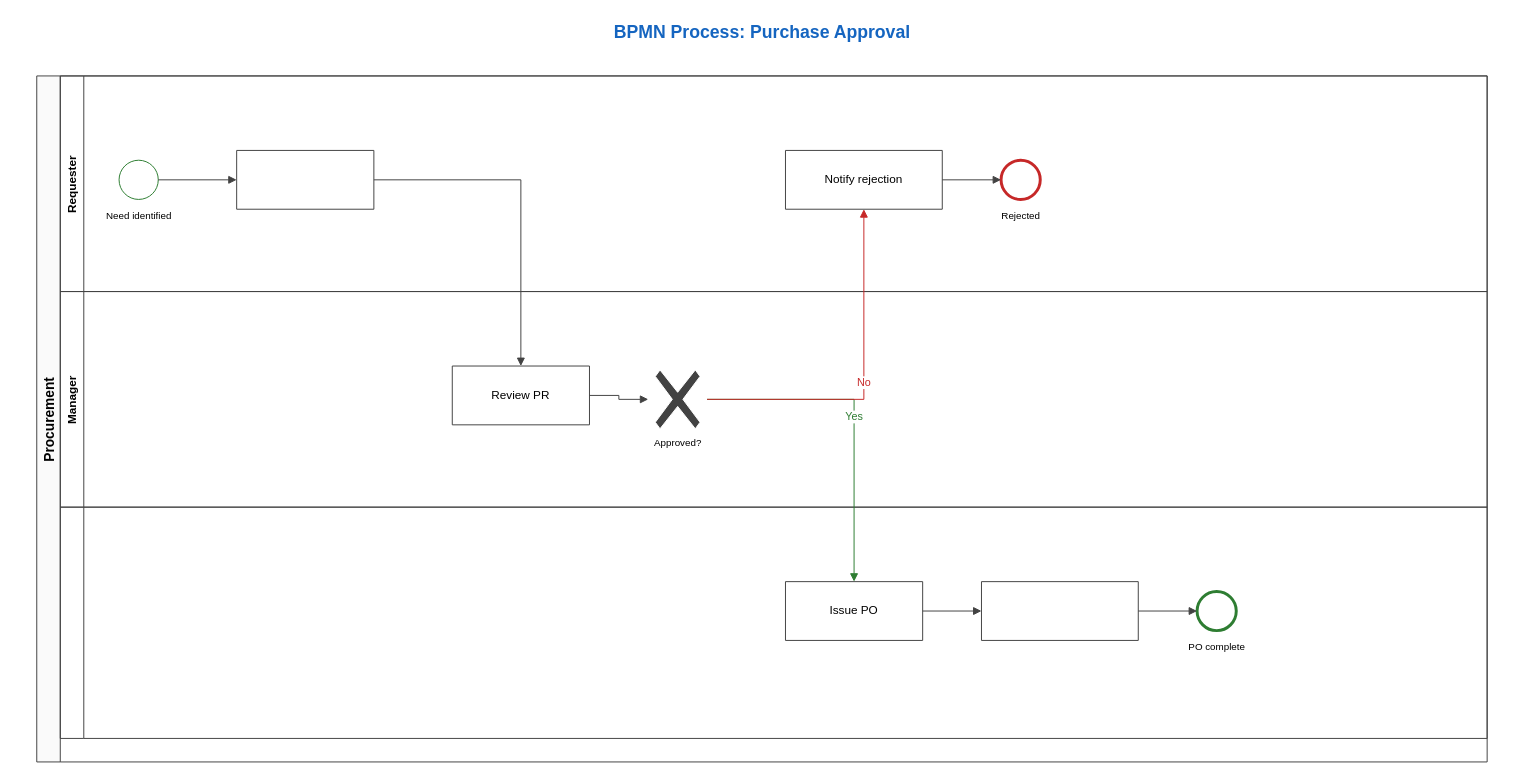
This 1523x779 diagram has some shape labels left out. The box of each missing label's shape, as (x1, y1, x2, y2) in pixels:
Create PR: (236, 149, 374, 209)
Finance: (59, 506, 1487, 738)
Process payment: (980, 581, 1138, 640)
